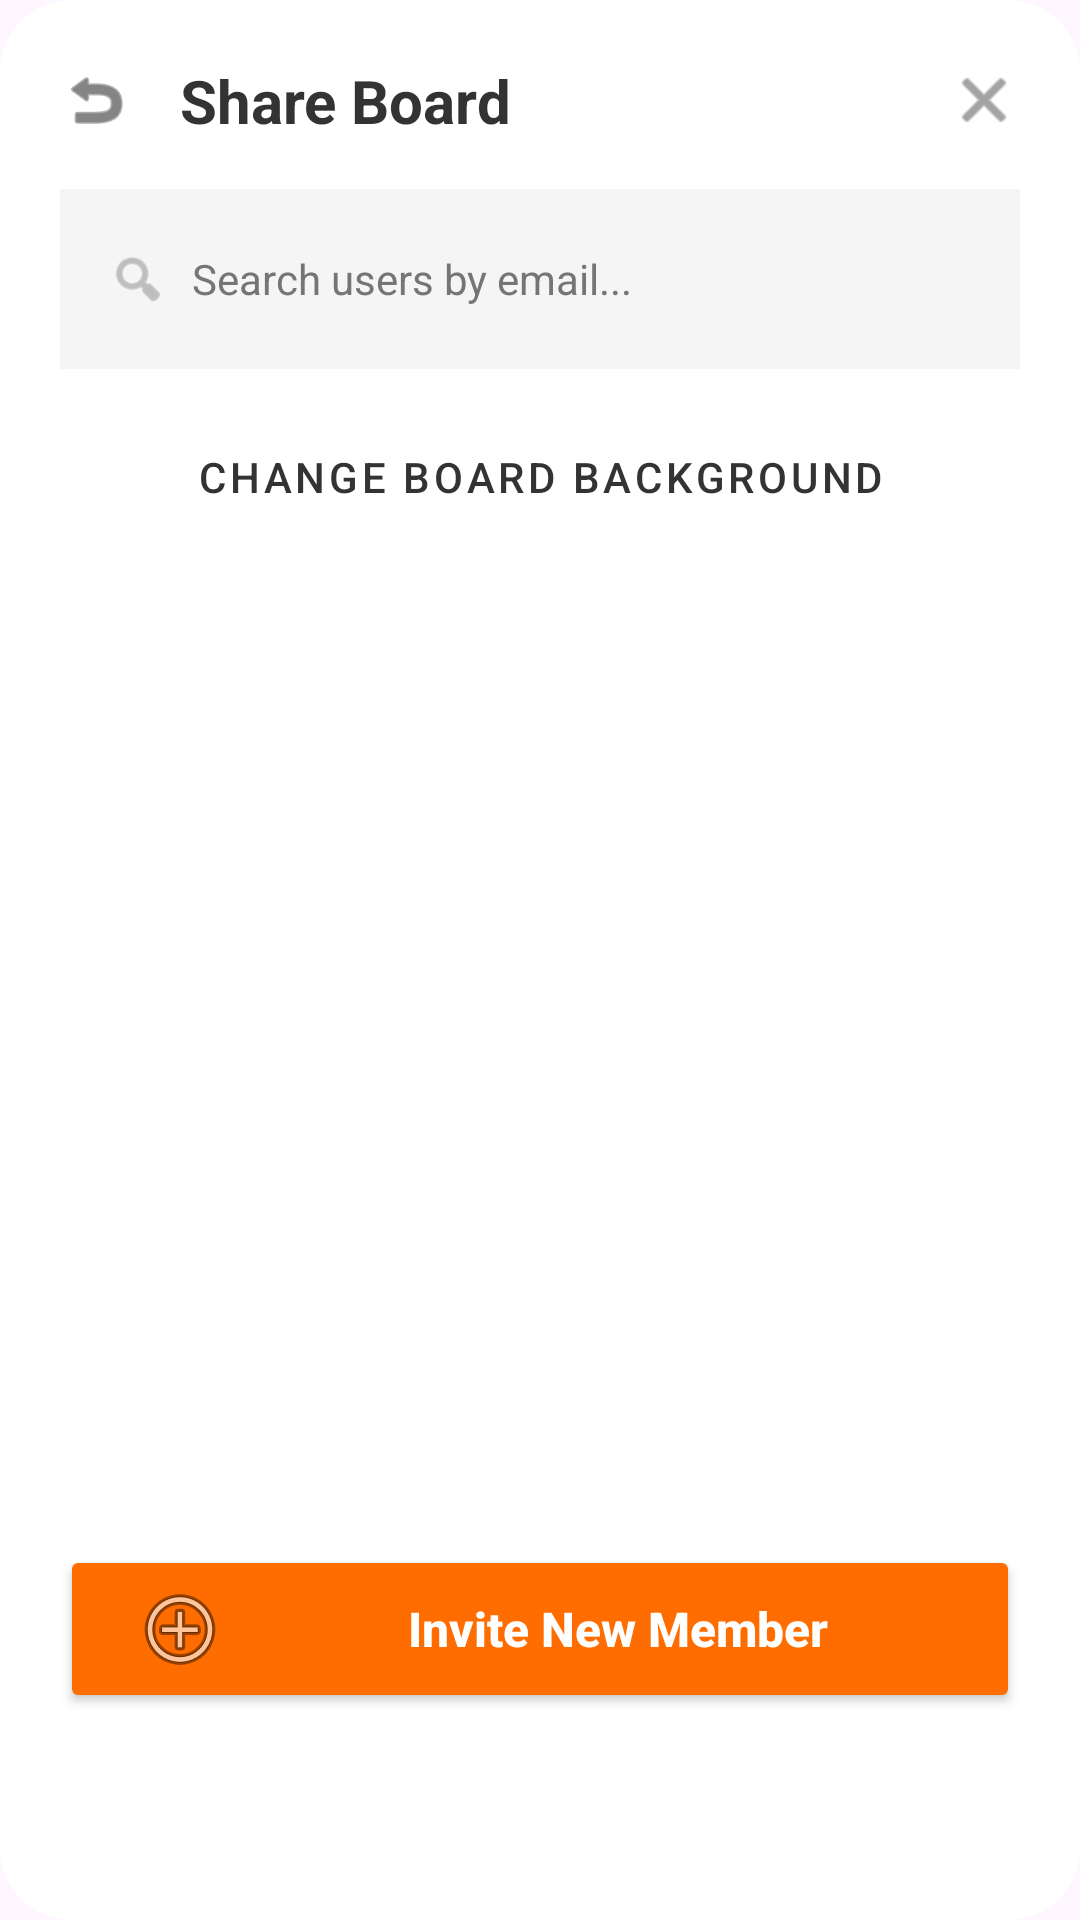

Named icons in this screenshot (1080 x 1920) and their bounding boxes, (x1, y1, x2, y2):
close clear cancel: (962, 78, 1006, 122)
revert: (71, 77, 123, 124)
